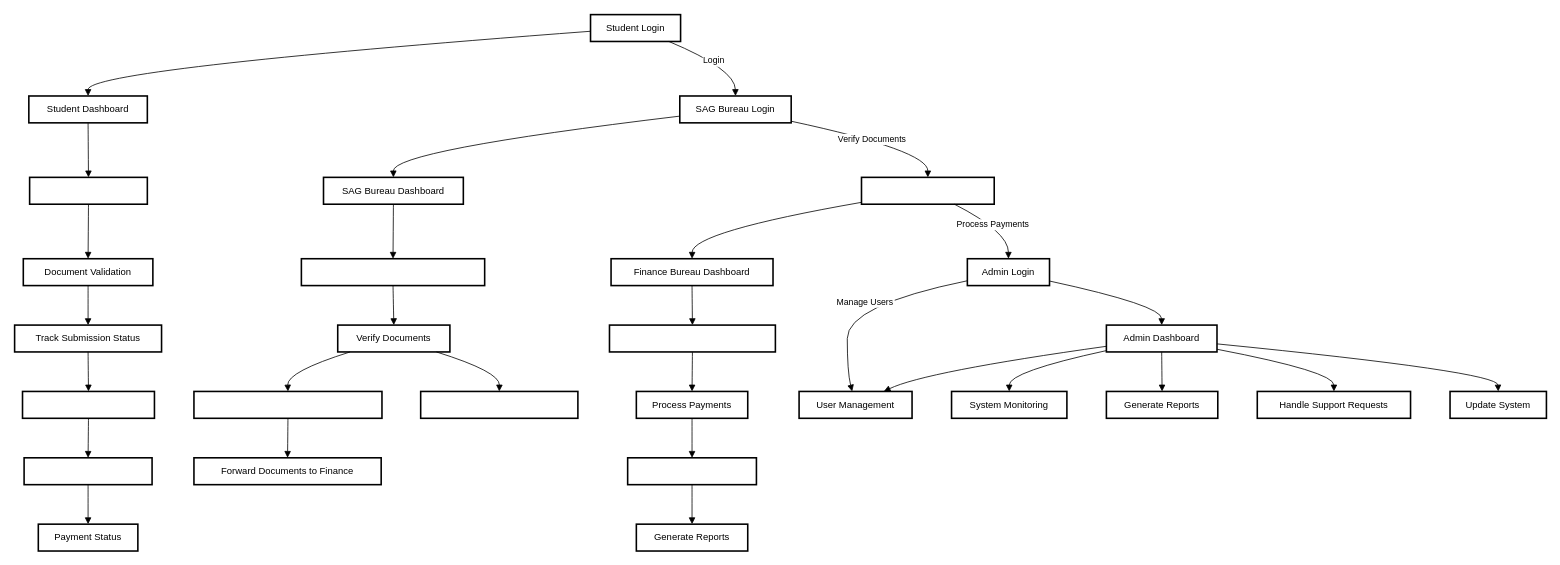
The diagram is 1560 pixels wide and 565 high, and some of its shapes have lost their labels. The shapes that lost their labels are listed below. From the top down, each one's box as (x1, y1, x2, y2) in pixels, then its label:
(28, 176, 148, 205): Submit Documents
(860, 176, 995, 205): Finance Bureau Login
(300, 258, 485, 286): Review Document Submissions
(608, 324, 776, 352): Review Verified Documents
(21, 390, 155, 419): Receive Notifications
(193, 390, 382, 419): Request Additional Information
(419, 390, 578, 419): Log Verification Activities
(23, 457, 152, 485): Respond to Requests
(626, 457, 757, 485): Manage Transactions
